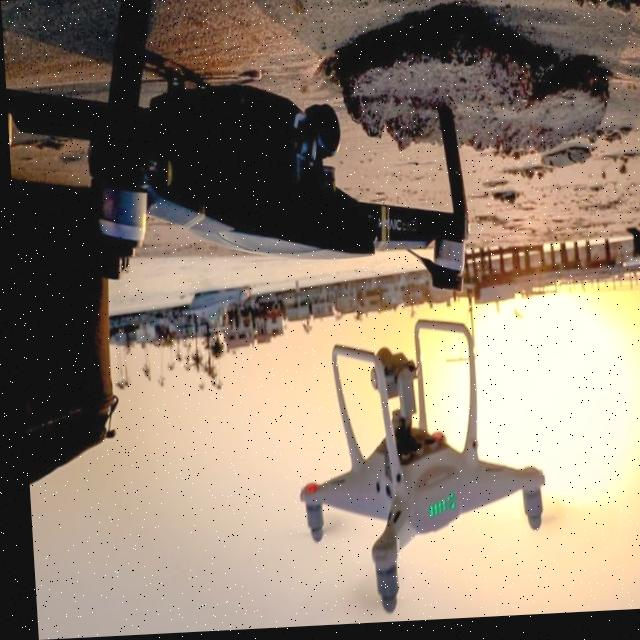drone: (52, 44, 523, 333), (267, 371, 560, 609)
